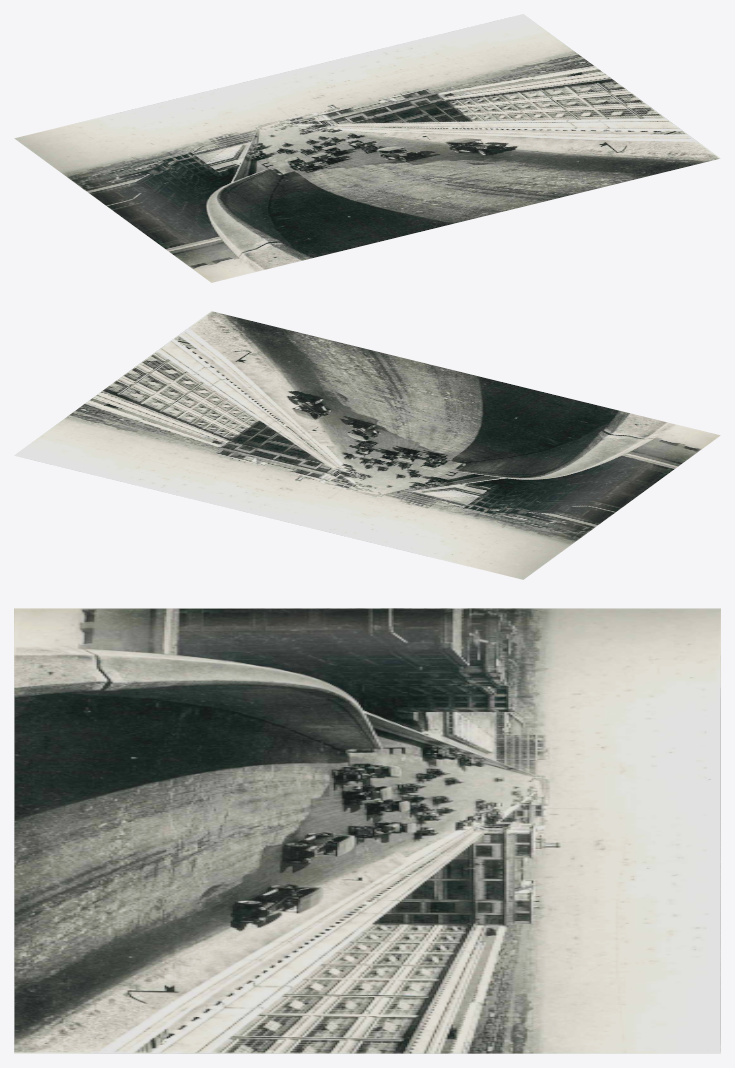
File: Esercizio1_GZ2.obj
3 renders of one model, top to bottom at view 1: azimuth 30°, elevation 25°; view 2: azimuth 150°, elevation 25°; view 3: azimuth 270°, elevation 25°, orthographic. The views are drawn at different scales.
Parts seen in each view (by area): view 1: Plane001; view 2: Plane001; view 3: Plane001.
Boxes of the visible parts, bbox=[...] form: Plane001: bbox=[14, 14, 720, 282]; Plane001: bbox=[14, 311, 720, 579]; Plane001: bbox=[14, 608, 720, 1053].
Size of the model in its own units: 2.01 by 0 by 1.35.
Materials: 1 (1 with a texture image).
